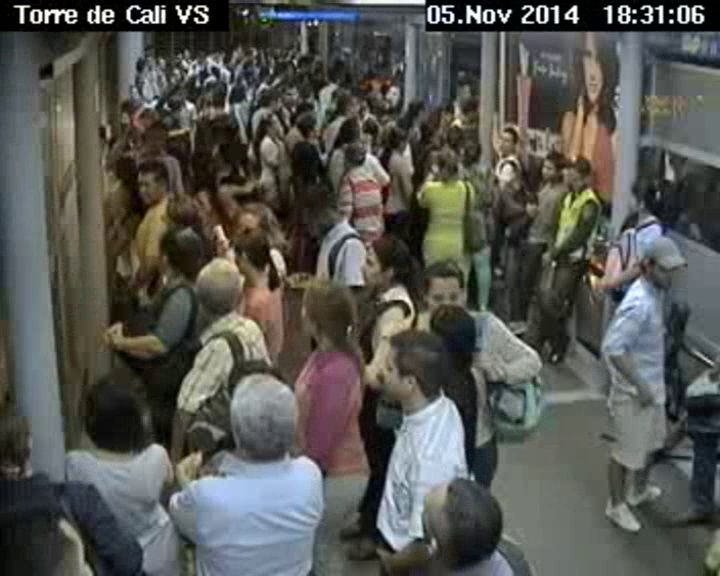person: (412, 475, 510, 563), (217, 372, 302, 471), (1, 504, 101, 575), (70, 362, 155, 443), (372, 323, 452, 409), (301, 271, 363, 358), (420, 301, 487, 367), (185, 252, 246, 321), (1, 408, 50, 489), (413, 255, 477, 315), (357, 232, 412, 293), (634, 233, 688, 288), (150, 227, 199, 276), (229, 197, 275, 243), (300, 183, 339, 232), (288, 137, 325, 186), (626, 176, 669, 218), (187, 181, 226, 222), (135, 163, 173, 201), (215, 134, 246, 176), (105, 152, 141, 186), (536, 148, 568, 183), (383, 123, 410, 164), (182, 147, 216, 176), (567, 151, 591, 192), (143, 120, 171, 154), (342, 136, 369, 169), (431, 154, 460, 184), (296, 108, 322, 141), (254, 113, 282, 143), (380, 81, 407, 109), (492, 123, 517, 153), (257, 88, 282, 113), (164, 91, 191, 114), (410, 98, 432, 124), (331, 96, 358, 116), (228, 81, 247, 108), (463, 139, 483, 164), (207, 80, 227, 103), (279, 83, 299, 103), (453, 79, 470, 101)
